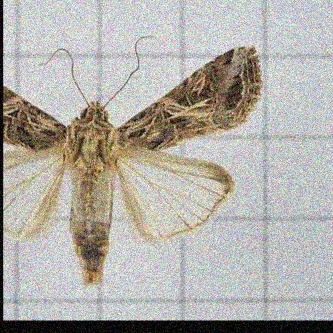Spodoptera litura: (4, 35, 264, 286)
